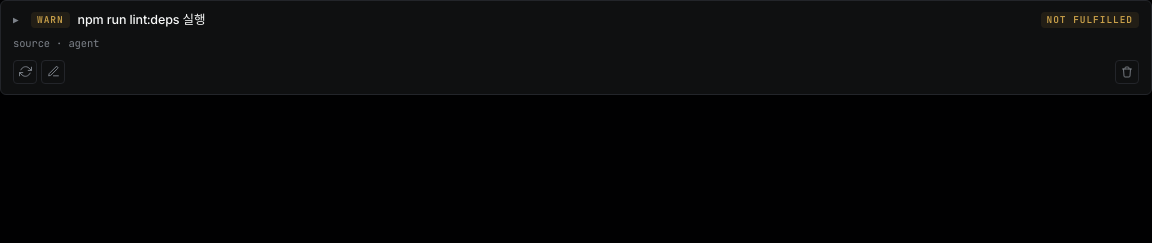
Test: RuleRow › 증거가 없는 미이행 규칙도 펼쳐서 이유를 볼 수 있다
Click the button with aria-label "Expand rule evidence" at (50, 20), box [13, 11, 1139, 30]
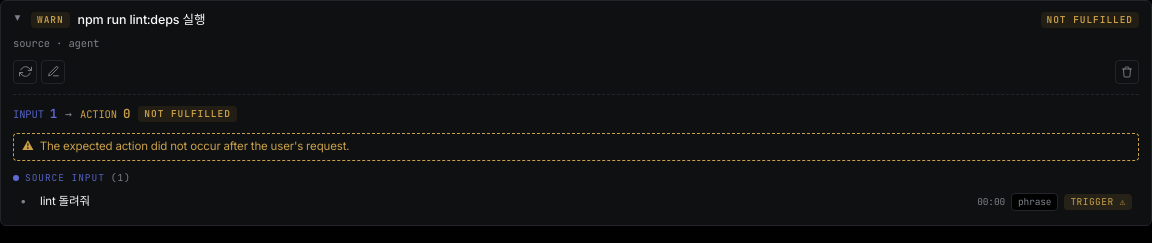
Now the element named "Rule evidence flow" is shown, box [13, 104, 237, 122]
Now the text "SOURCE INPUT" is shown, box [25, 170, 105, 185]
